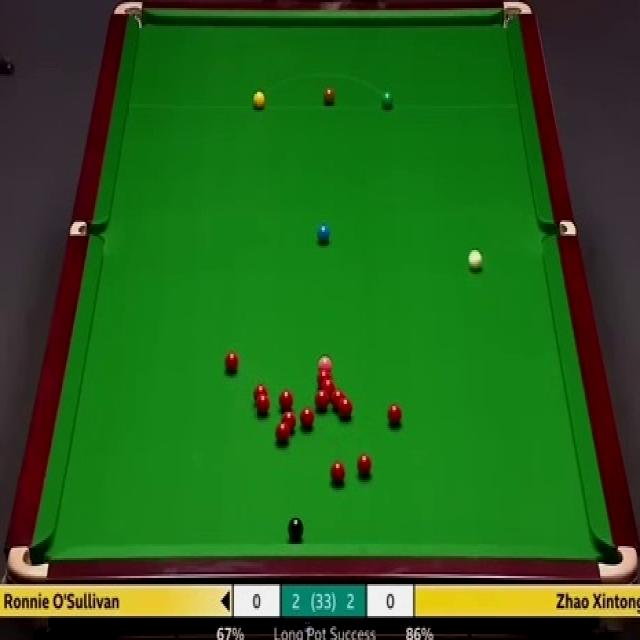black-ball: (286, 514, 304, 538)
blue-ball: (316, 225, 331, 242)
brown-ball: (324, 88, 335, 106)
green-ball: (380, 88, 395, 110)
pink-ball: (318, 356, 334, 370)
red-ball: (329, 460, 347, 487), (386, 399, 402, 426), (356, 452, 373, 476), (224, 349, 240, 374), (314, 389, 330, 412), (300, 405, 316, 428), (277, 419, 292, 442), (337, 397, 353, 418), (282, 413, 297, 432), (279, 389, 294, 408), (330, 386, 344, 406), (258, 393, 270, 416), (320, 378, 334, 396), (253, 383, 265, 403), (315, 369, 331, 384)
white-ball: (468, 251, 483, 269)
yellow-ball: (253, 90, 265, 110)
